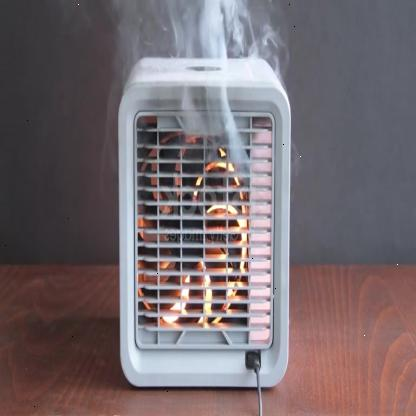smoke: (98, 0, 290, 185)
